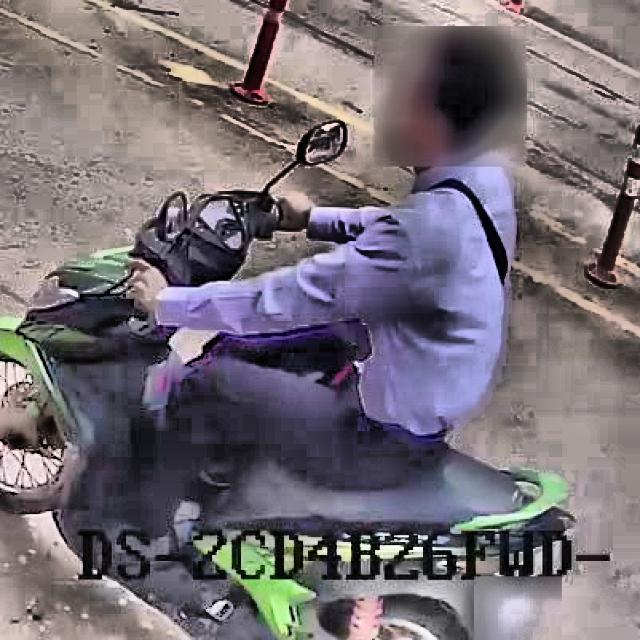motorcycle: (0, 117, 573, 640)
